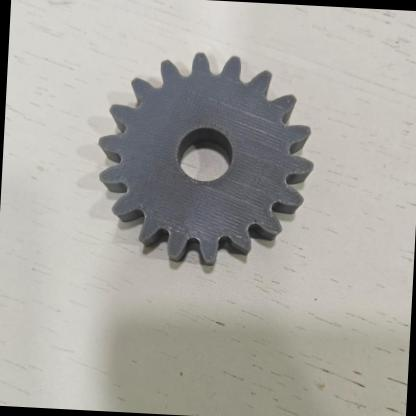gear: (64, 32, 332, 270)
